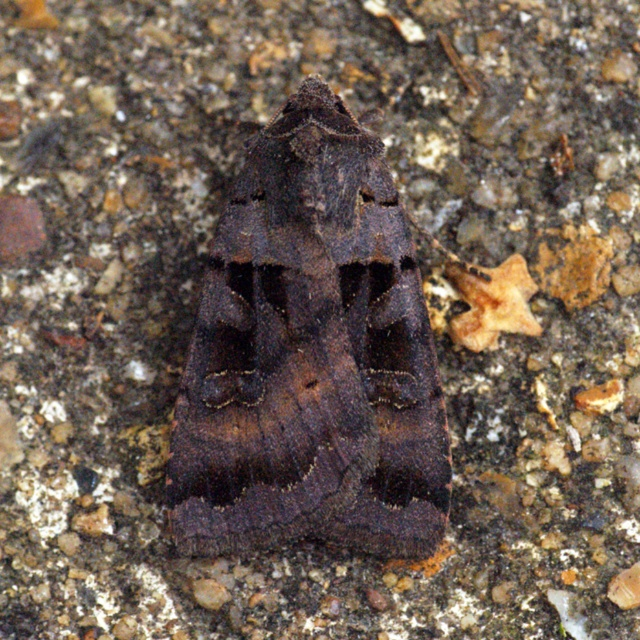Moths and butterflies: (174, 77, 496, 555)
